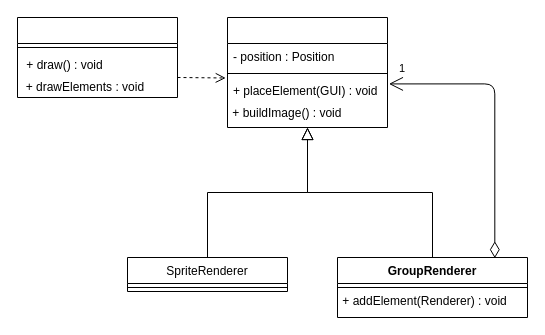
Image size: 545x335. Some labels were removed from this diagram. Here are the shapes that lost their labels. From the top down, the box of each, then its label:
(16, 16, 178, 98): BattleViewer
(226, 16, 388, 128): Renderer
